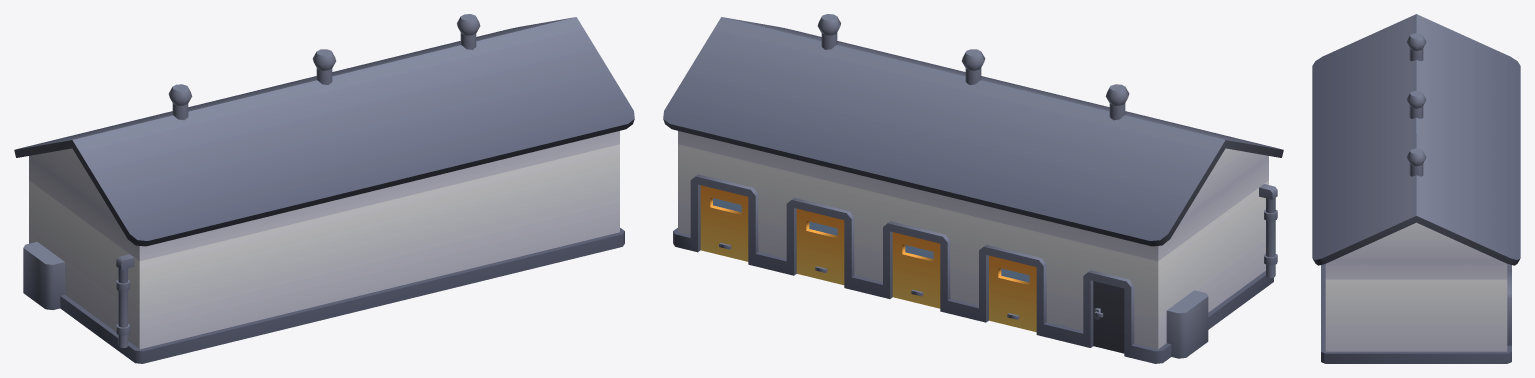
File: kenney-city-industrial-building-s.glb
3 views of the same model, side by side, from view 1: azimuth 30°, elevation 25°; view 2: azimuth 150°, elevation 25°; view 3: azimuth 270°, elevation 25° (orthographic). The views are drawn at different scales.
Parts seen in each view (by area): view 1: building-s; view 2: building-s; view 3: building-s.
Part boxes in pixels (<box>): building-s: <box>14,14,634,363</box>; building-s: <box>663,14,1283,363</box>; building-s: <box>1312,14,1520,363</box>.
Bounding box in the file's own units: 2.12 × 0.8368 × 0.9162.
1 material, 1 textured.
